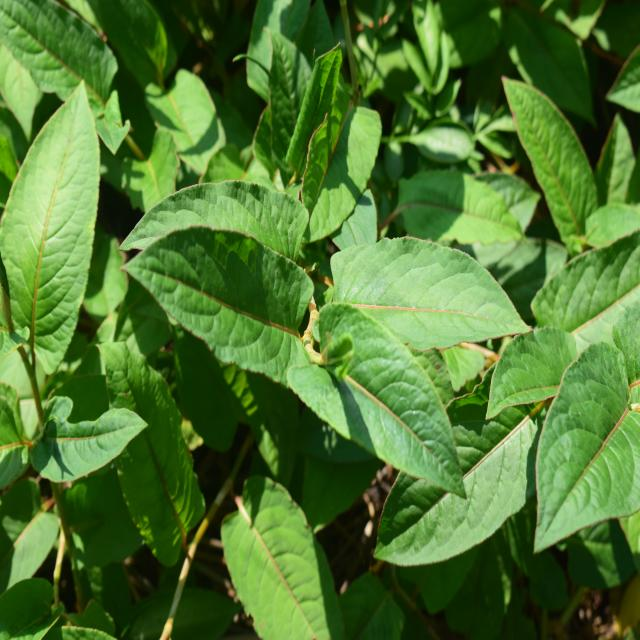Chinese_knotweed: (158, 173, 510, 502)
